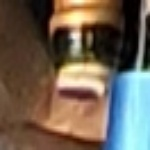bottle: (30, 8, 140, 116)
